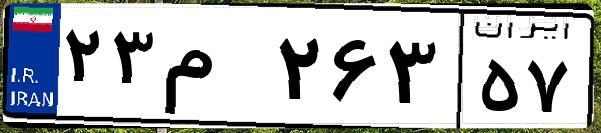2: (270, 28, 330, 110), (57, 26, 110, 100)
3: (385, 28, 445, 110), (110, 28, 158, 98)
5: (475, 38, 525, 113)
6: (330, 28, 385, 110)
7: (525, 38, 570, 115)
م: (158, 20, 270, 120)
